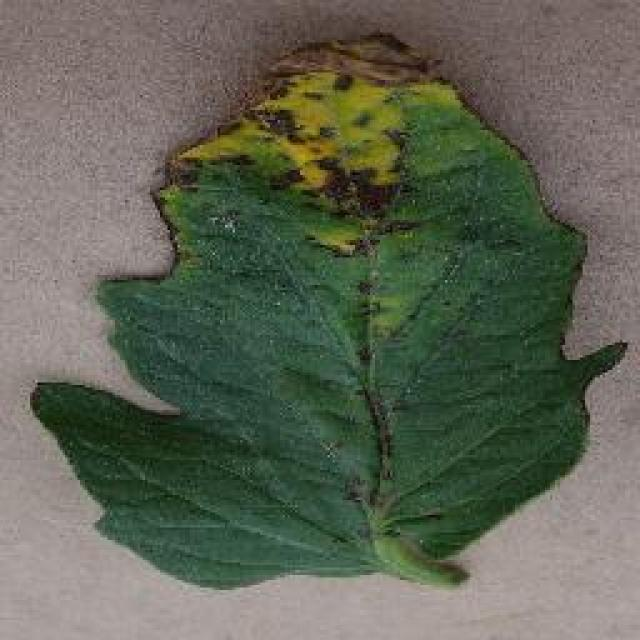Tomato___Bacterial_spot: (28, 33, 634, 597)
